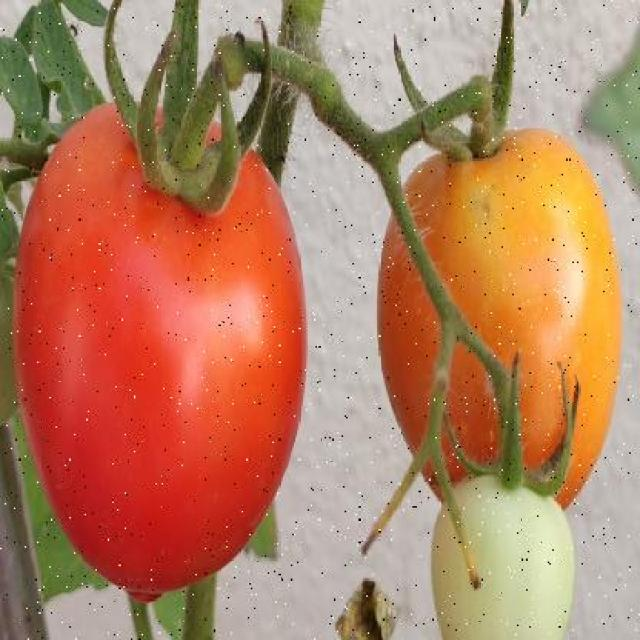tomato: (12, 106, 308, 608), (380, 128, 623, 511)
